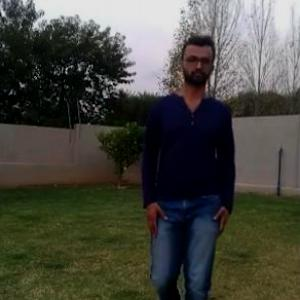follow: (151, 43, 228, 299)
